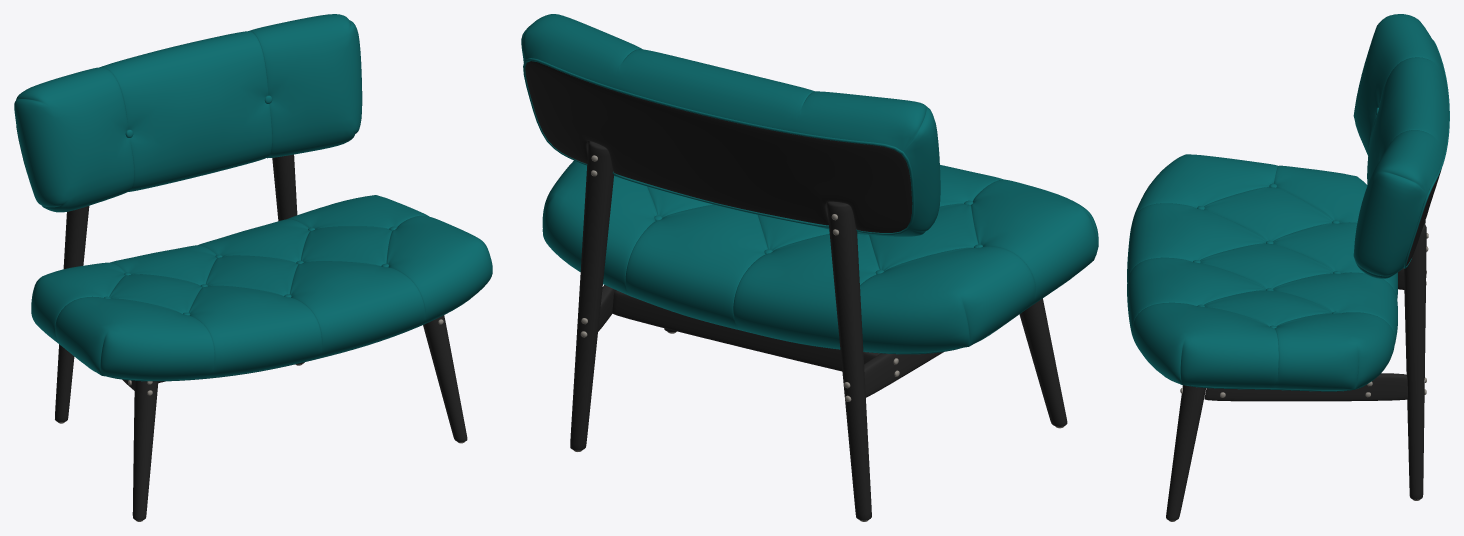
The model's file is armchair-slipper--peacock.glb.
3 renders of one model, left to right at view 1: azimuth 30°, elevation 25°; view 2: azimuth 150°, elevation 25°; view 3: azimuth 270°, elevation 25°, orthographic. The views are drawn at different scales.
Parts seen in each view (by area): view 1: SheenChair_fabric, SheenChair_wood; view 2: SheenChair_fabric, SheenChair_wood; view 3: SheenChair_fabric, SheenChair_wood.
Part boxes in pixels (x1,y1,x2,y2): SheenChair_fabric: (14, 14, 492, 381); SheenChair_wood: (55, 154, 467, 520); SheenChair_fabric: (521, 14, 1098, 354); SheenChair_wood: (525, 61, 1067, 520); SheenChair_fabric: (1127, 14, 1449, 391); SheenChair_wood: (1166, 170, 1441, 520).
Bounding box in the file's own units: 0.827 × 0.686 × 0.57.
